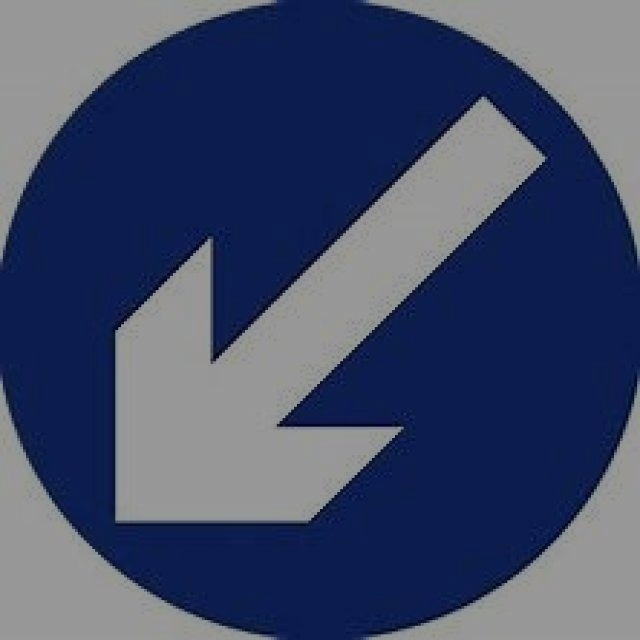R.301e: (0, 0, 637, 637)
